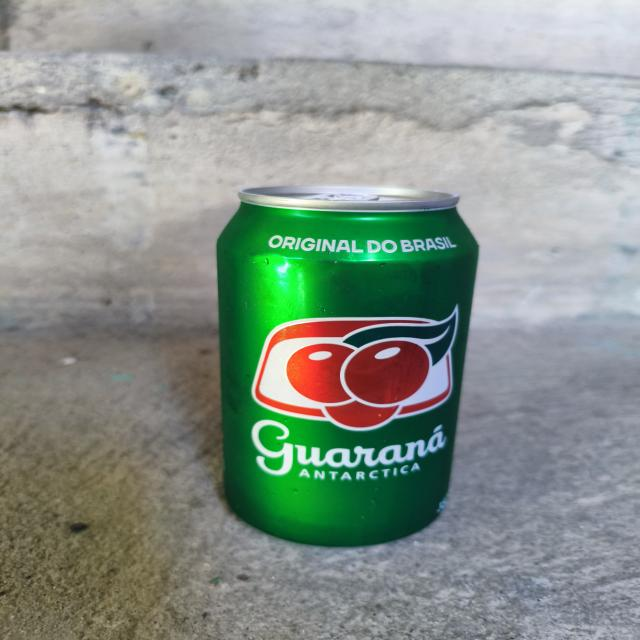Guarana: (203, 160, 478, 544)
